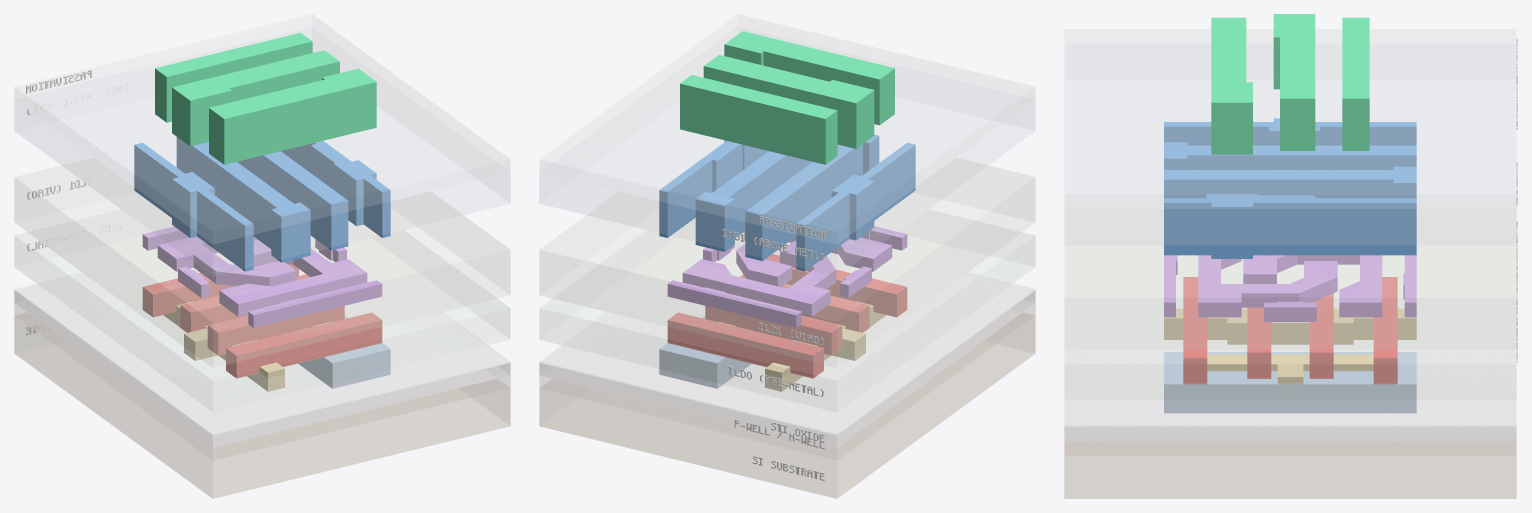
Rendered from bitcell_3d_in_situ.glb.
3 views of the same model, side by side, from view 1: azimuth 30°, elevation 25°; view 2: azimuth 150°, elevation 25°; view 3: azimuth 270°, elevation 25° (orthographic). The views are drawn at different scales.
Visible parts, largest first — view 1: ILD1 (via0), IMD1 (above met1), ILD0 (pre-metal), Passivation, Si substrate, met1, met2, Gate oxide, P-well / N-well, li1, poly, STI oxide (+2 smaller); view 2: IMD1 (above met1), ILD1 (via0), ILD0 (pre-metal), Passivation, Si substrate, met1, met2, P-well / N-well, li1, Gate oxide, poly, STI oxide (+3 smaller); view 3: IMD1 (above met1), Passivation, ILD1 (via0), ILD0 (pre-metal), met1, Si substrate, met2, P-well / N-well, Gate oxide, li1, nwell, poly (+2 smaller).
Boxes of the visible parts, left/top/right/bottom form: ILD1 (via0): left=14, top=158, right=510, bottom=367; IMD1 (above met1): left=15, top=27, right=509, bottom=275; ILD0 (pre-metal): left=14, top=210, right=510, bottom=411; Passivation: left=15, top=14, right=509, bottom=243; Si substrate: left=14, top=312, right=510, bottom=498; met1: left=134, top=137, right=390, bottom=271; met2: left=155, top=33, right=376, bottom=164; Gate oxide: left=15, top=273, right=509, bottom=434; P-well / N-well: left=14, top=291, right=510, bottom=460; li1: left=142, top=226, right=382, bottom=327; poly: left=142, top=264, right=382, bottom=378; STI oxide: left=15, top=291, right=510, bottom=447; IMD1 (above met1): left=540, top=27, right=1034, bottom=275; ILD1 (via0): left=539, top=158, right=1035, bottom=367; ILD0 (pre-metal): left=539, top=210, right=1035, bottom=411; Passivation: left=540, top=14, right=1034, bottom=243; Si substrate: left=539, top=312, right=1035, bottom=498; met1: left=659, top=134, right=915, bottom=271; met2: left=680, top=31, right=894, bottom=164; P-well / N-well: left=539, top=290, right=1035, bottom=460; li1: left=667, top=226, right=907, bottom=327; Gate oxide: left=540, top=273, right=1034, bottom=434; poly: left=667, top=254, right=907, bottom=378; STI oxide: left=539, top=291, right=1034, bottom=447; IMD1 (above met1): left=1065, top=44, right=1515, bottom=244; Passivation: left=1065, top=29, right=1515, bottom=208; ILD1 (via0): left=1064, top=209, right=1516, bottom=349; ILD0 (pre-metal): left=1064, top=246, right=1516, bottom=399; met1: left=1164, top=118, right=1416, bottom=258; Si substrate: left=1064, top=441, right=1516, bottom=498; met2: left=1211, top=14, right=1369, bottom=154; P-well / N-well: left=1064, top=426, right=1516, bottom=455; Gate oxide: left=1065, top=351, right=1515, bottom=425; li1: left=1164, top=255, right=1416, bottom=321; nwell: left=1164, top=352, right=1416, bottom=413; poly: left=1183, top=277, right=1397, bottom=384.
Bounding box in the file's own units: 24.5 × 24.7 × 28.37.
